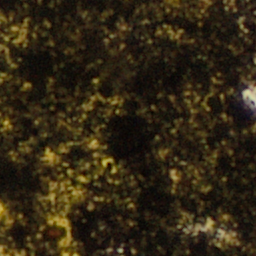cement_matrix: (0, 0, 255, 255), (56, 217, 64, 224), (204, 223, 209, 227), (223, 234, 226, 237)
cracks: (57, 218, 63, 223), (0, 208, 2, 214), (205, 224, 208, 226), (224, 235, 225, 236)
gravel_crushed_stones: (244, 85, 255, 109)
